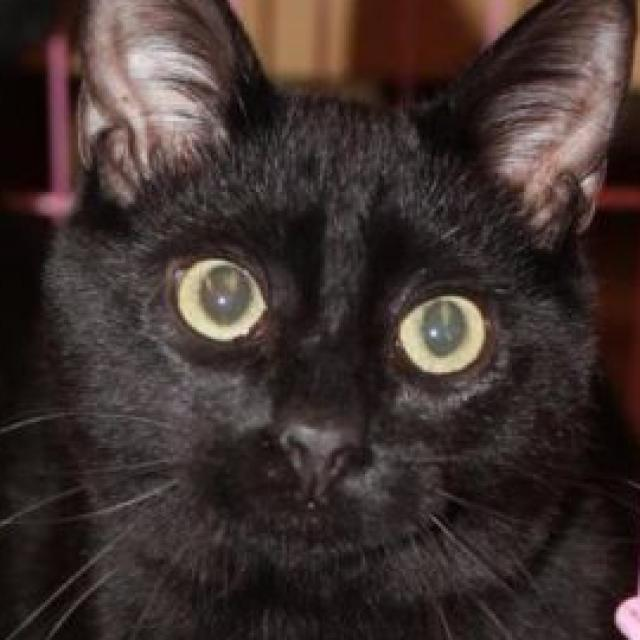Bombay: (33, 0, 638, 640)
